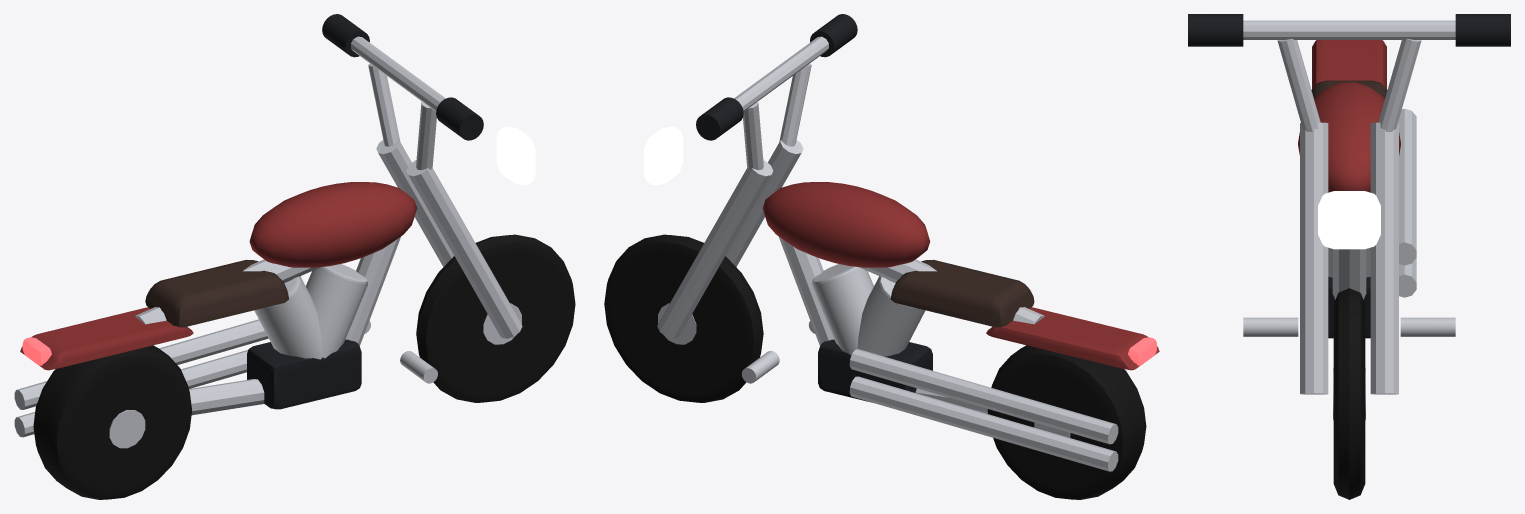
Rendered from chopper.glb.
The picture shows the model from 3 angles, left to right: view 1: azimuth 30°, elevation 25°; view 2: azimuth 150°, elevation 25°; view 3: azimuth 270°, elevation 25°; orthographic projection. The views are drawn at different scales.
Visible parts, largest first — view 1: part-chrome, wheel-rear-tyre, wheel-front-tyre, part-paint, part-trim, part-seat, headlight, wheel-rear-spokes; view 2: part-chrome, wheel-front-tyre, part-paint, wheel-rear-tyre, part-seat, part-trim, headlight; view 3: part-chrome, part-paint, wheel-front-tyre, part-trim, headlight, part-seat.
Part boxes in pixels (x1=…): part-chrome: x1=14, y1=36, x2=522, y2=437; wheel-rear-tyre: x1=33, y1=345, x2=191, y2=499; wheel-front-tyre: x1=416, y1=234, x2=575, y2=402; part-paint: x1=20, y1=182, x2=416, y2=370; part-trim: x1=247, y1=14, x2=483, y2=409; part-seat: x1=145, y1=259, x2=288, y2=327; headlight: x1=496, y1=126, x2=535, y2=185; wheel-rear-spokes: x1=109, y1=410, x2=145, y2=448; part-chrome: x1=657, y1=36, x2=1118, y2=471; wheel-front-tyre: x1=604, y1=234, x2=763, y2=402; part-paint: x1=762, y1=182, x2=1159, y2=370; wheel-rear-tyre: x1=987, y1=345, x2=1146, y2=499; part-seat: x1=890, y1=259, x2=1034, y2=327; part-trim: x1=696, y1=14, x2=932, y2=402; headlight: x1=644, y1=126, x2=683, y2=185; part-chrome: x1=1243, y1=20, x2=1455, y2=394; part-paint: x1=1298, y1=40, x2=1400, y2=192; wheel-front-tyre: x1=1333, y1=288, x2=1365, y2=499; part-trim: x1=1188, y1=14, x2=1510, y2=338; headlight: x1=1318, y1=191, x2=1380, y2=249; part-seat: x1=1311, y1=80, x2=1387, y2=98.
Size of the model in its own units: 18.75 by 11.82 by 8.2.
